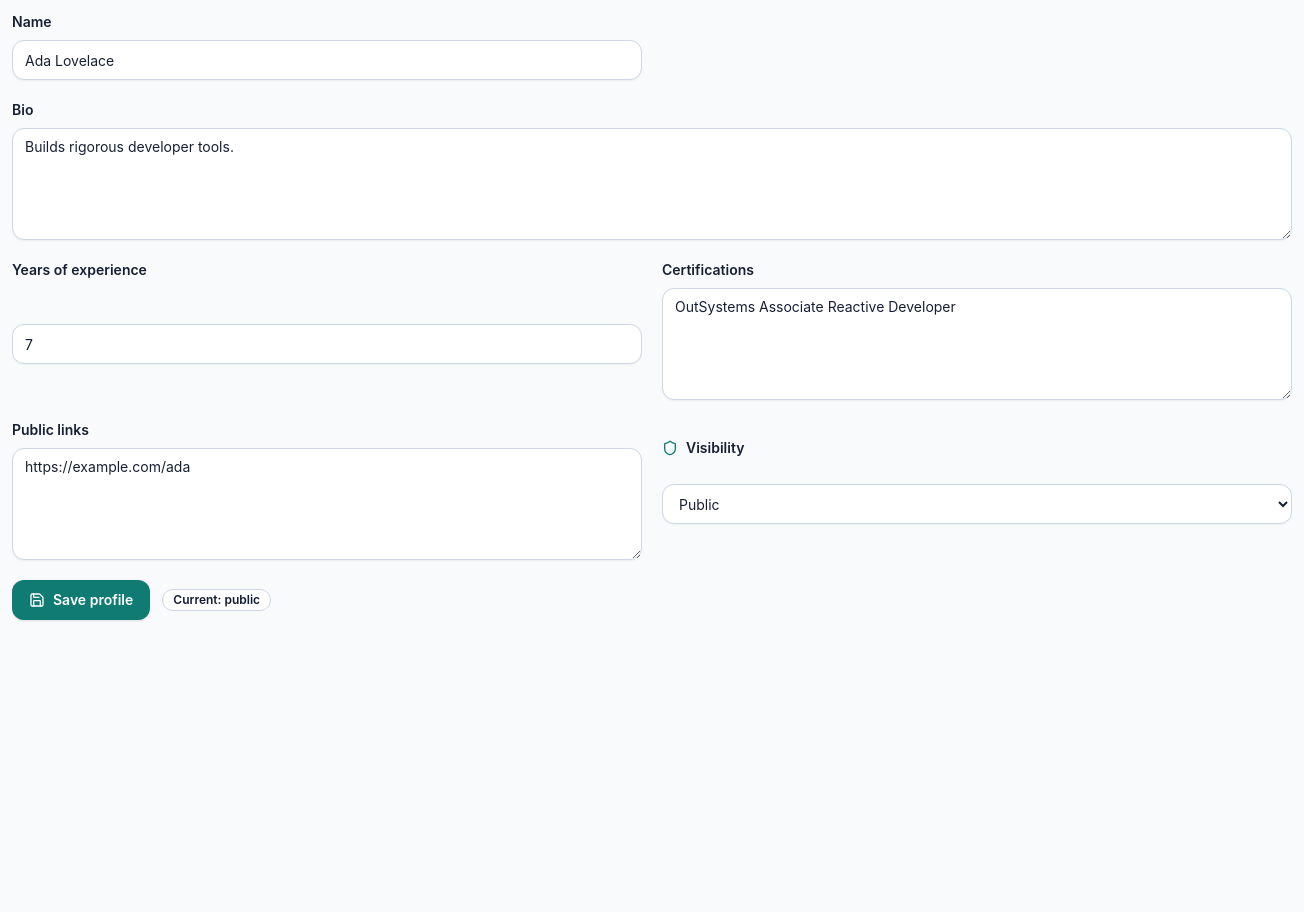
Test: ProfileEditor › prevents submission when client-side validation fails
The image size is (1304, 912).
Replace the text in the number field labelled "Years of experience" with "-1" at (327, 344), box [12,324,642,364]
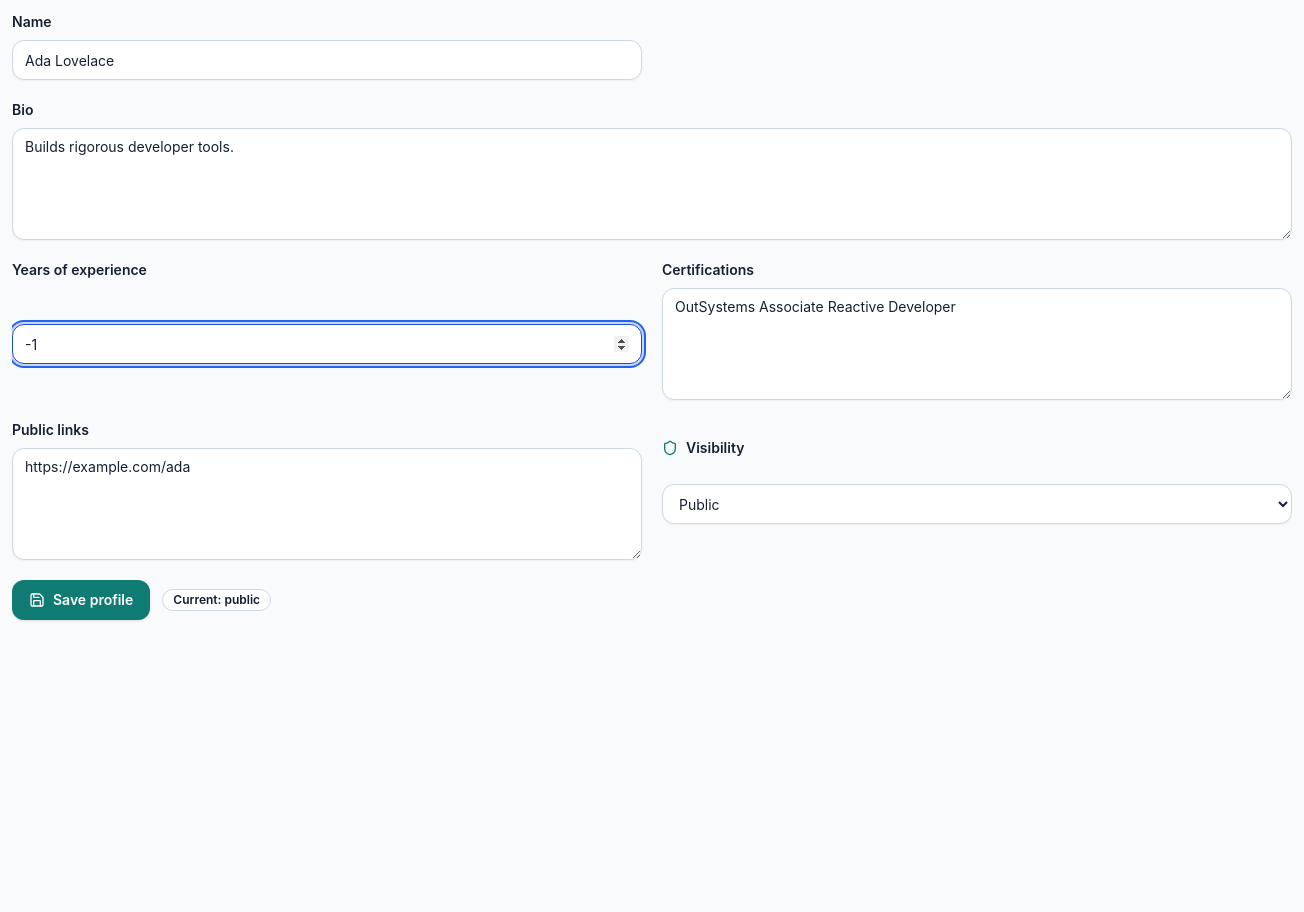
Replace the text in the text box labelled "Public links" with "bad-link" at (327, 504), box [12,448,642,560]
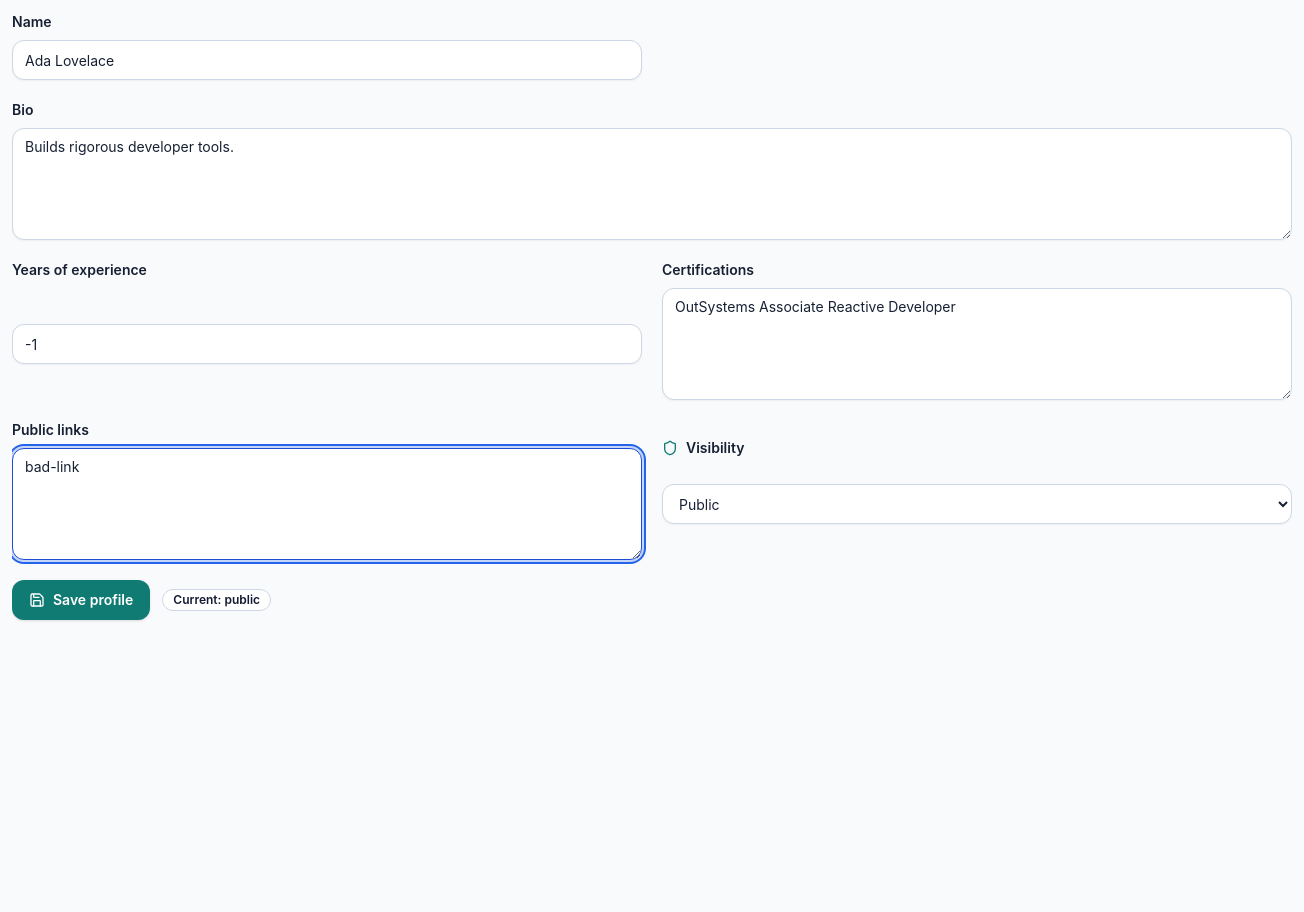
Click the button "Save profile".
click(81, 600)  # box [12,580,150,620]
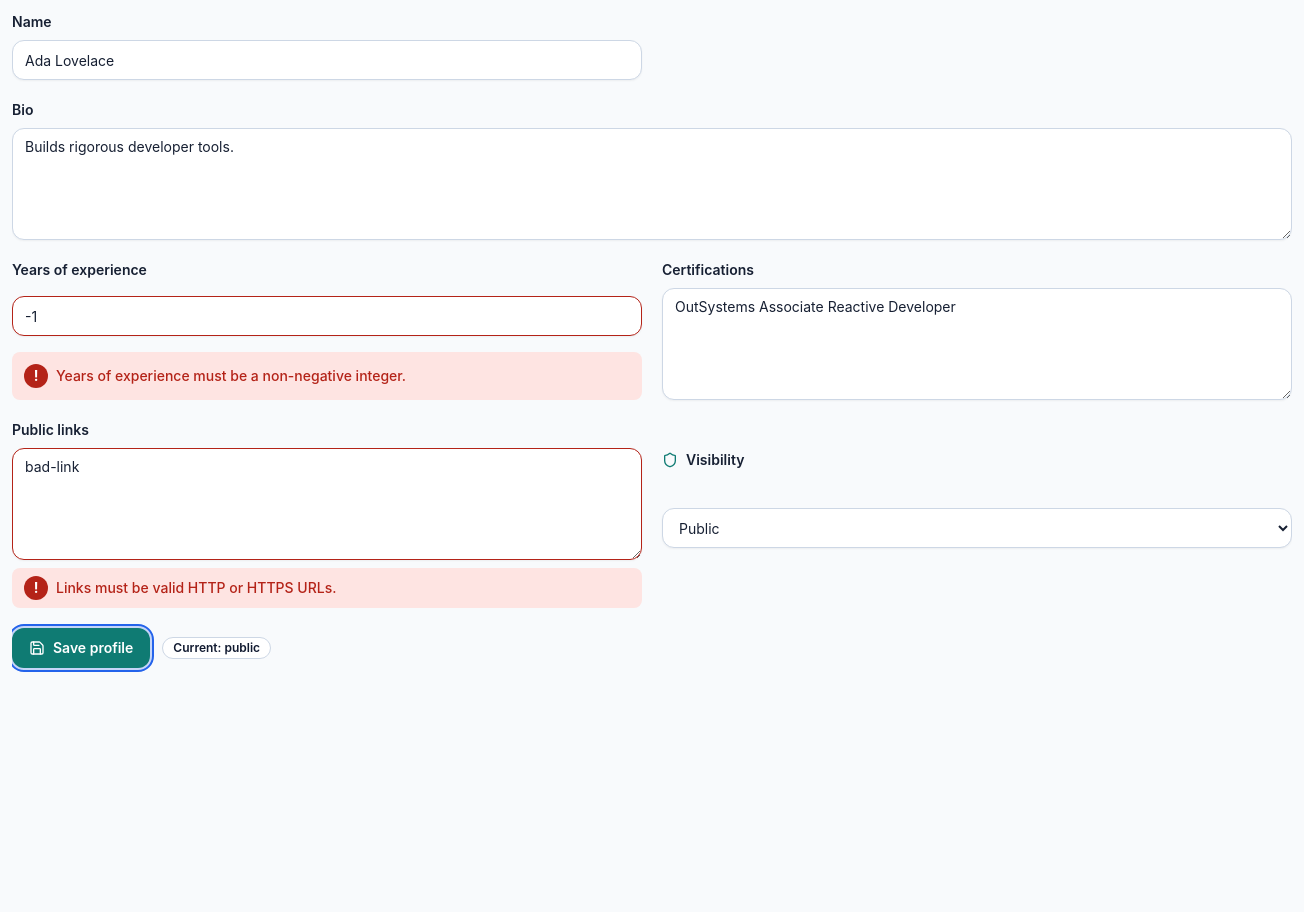
Now the text "Years of experience must be a non-negative integer." is shown, box [56,366,406,386]
Now the text "Links must be valid HTTP or HTTPS URLs." is shown, box [56,578,336,598]
